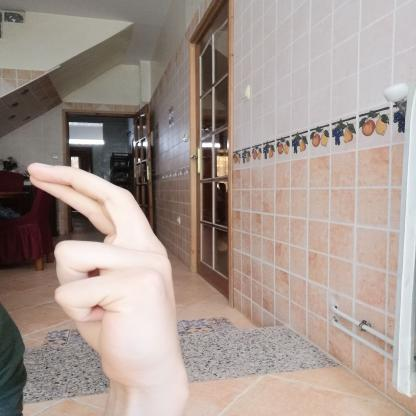ZAY: (15, 154, 200, 401)
